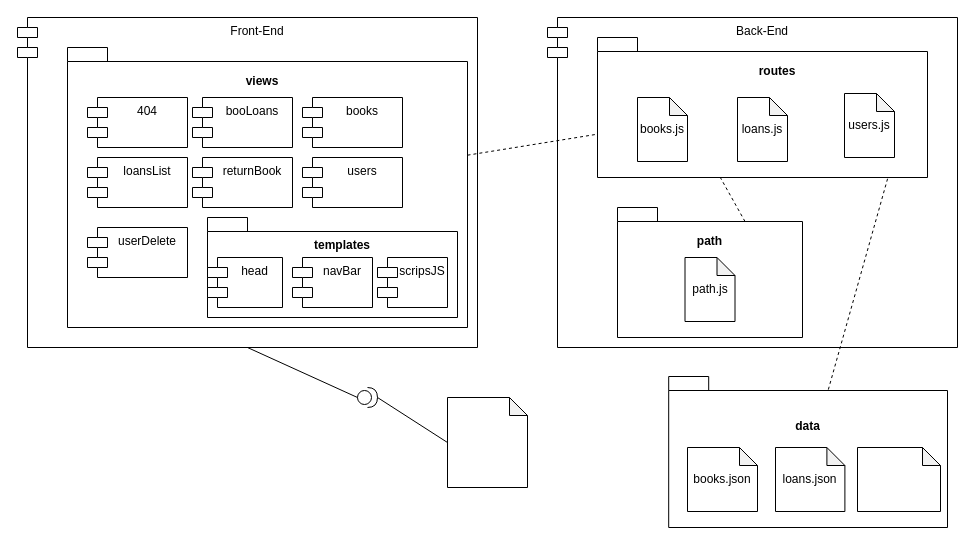
Image size: 975x545. Some labels were removed from this diagram. Each missing label, with the centre of its shape:
"app.js" goes at (x=487, y=442).
"users.json" goes at (x=898, y=479).
